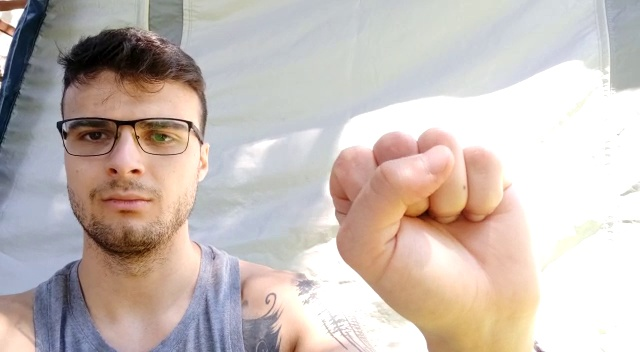Fist: (330, 122, 538, 352)
